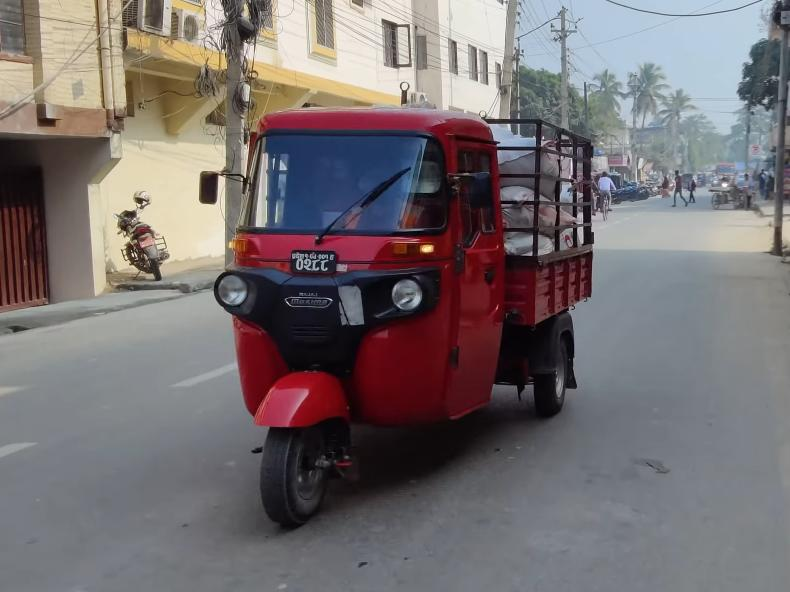auto_rickshaw: (197, 96, 599, 538)
bike: (109, 201, 172, 288)
